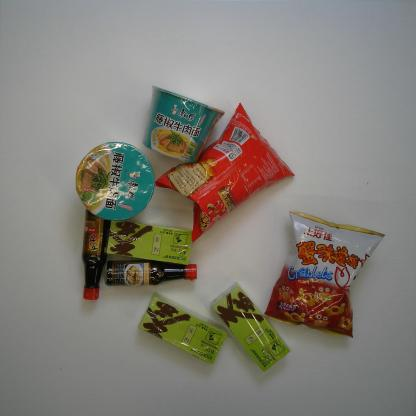Instant Drink: (210, 282, 291, 372), (137, 296, 227, 364), (104, 219, 193, 266)
Instant Noodles: (141, 84, 226, 164), (74, 141, 156, 222)
Puffed Food: (154, 102, 295, 243), (262, 209, 388, 339)
Seasoner: (81, 205, 111, 301), (103, 259, 198, 287)
